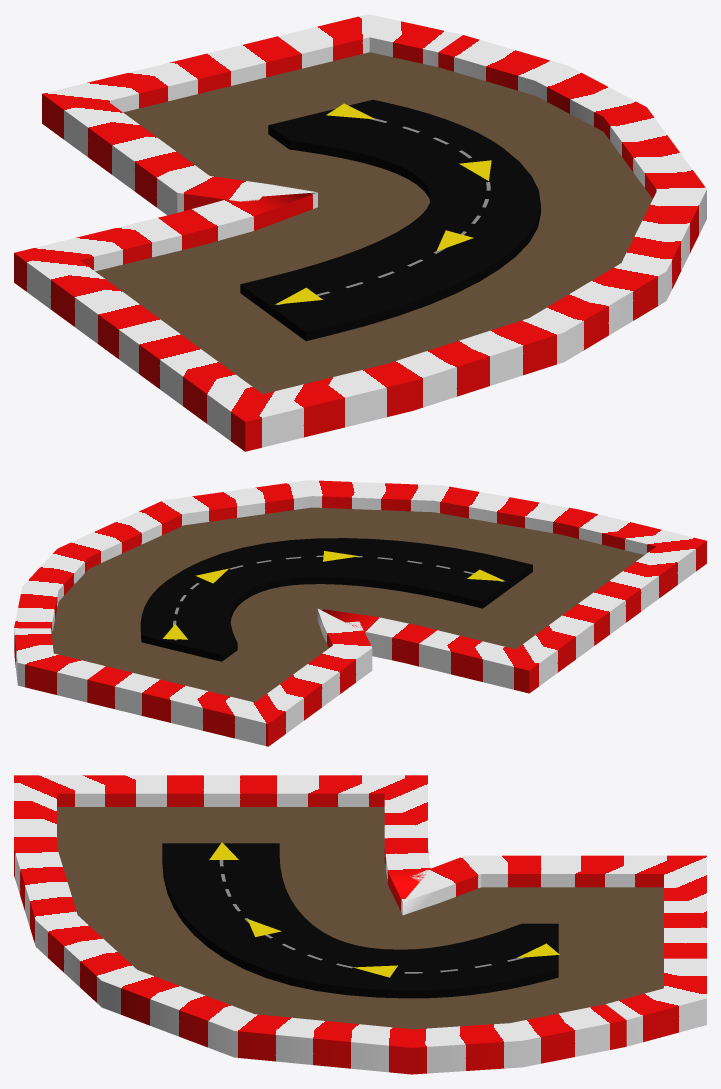
Rendered from reh.FBX.
The picture shows the model from 3 angles, top to bottom: view 1: azimuth 30°, elevation 25°; view 2: azimuth 150°, elevation 25°; view 3: azimuth 270°, elevation 25°; orthographic projection. The views are drawn at different scales.
Parts seen in each view (by area): view 1: ra2_coll, ra2_floor, ra2; view 2: ra2_coll, ra2_floor, ra2; view 3: ra2_coll, ra2_floor, ra2.
Boxes of the visible parts, bbox=[...] form: ra2_coll: bbox=[14, 14, 706, 451]; ra2_floor: bbox=[95, 52, 652, 393]; ra2: bbox=[240, 99, 540, 340]; ra2_coll: bbox=[14, 480, 706, 746]; ra2_floor: bbox=[52, 507, 644, 702]; ra2: bbox=[140, 538, 532, 661]; ra2_coll: bbox=[14, 775, 706, 1074]; ra2_floor: bbox=[57, 807, 663, 1029]; ra2: bbox=[162, 843, 558, 998].
Bounding box in the file's own units: 718 × 32.76 × 772.
